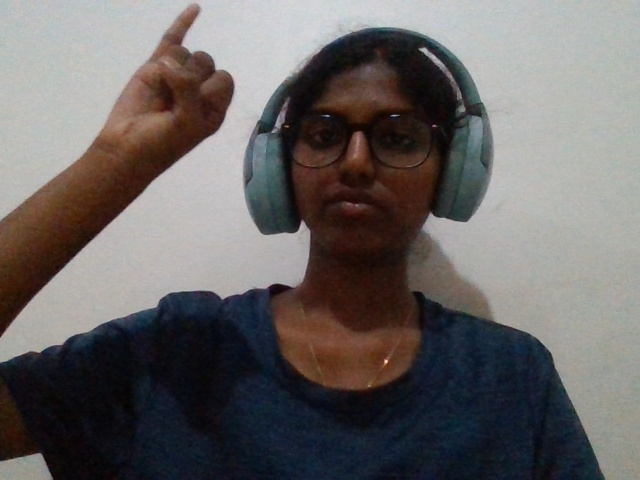I: (63, 5, 268, 233)
